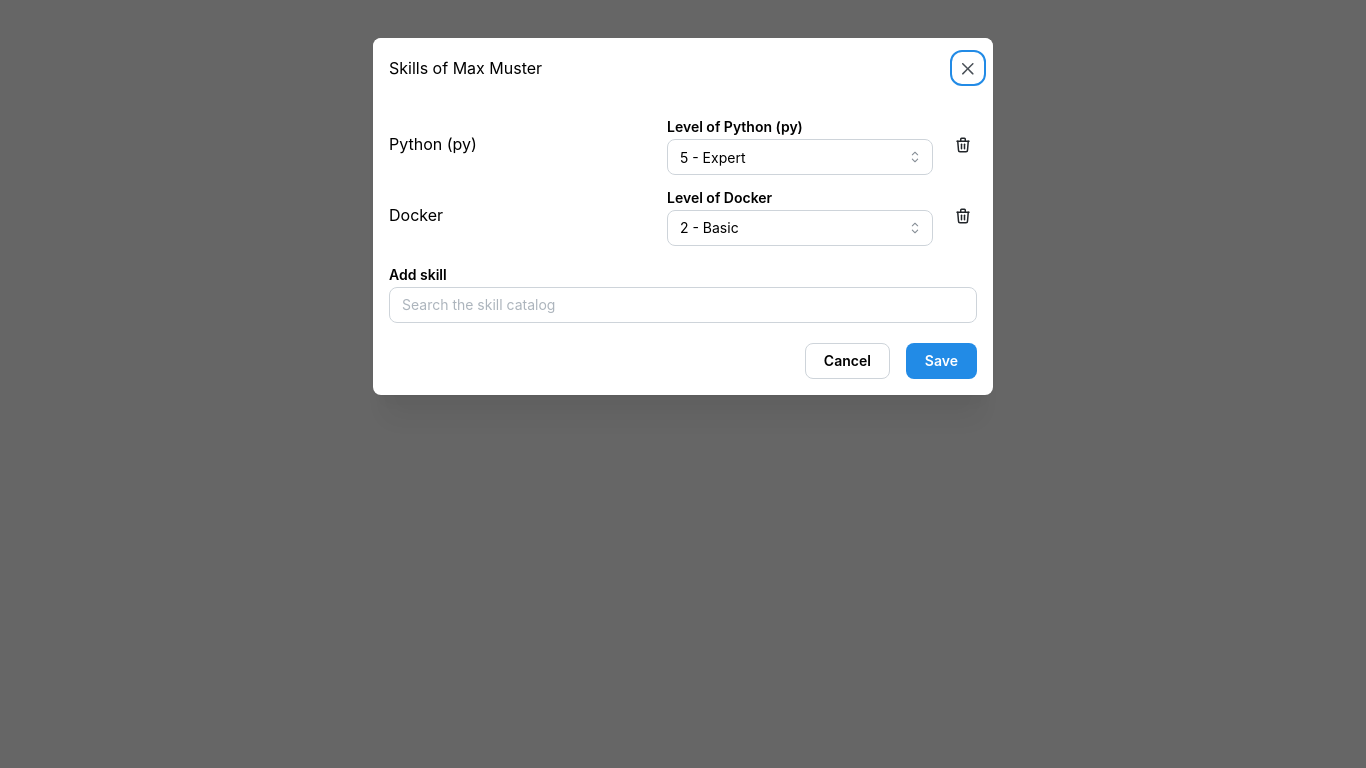
Scenario: SkillsDialog › shows the reason from the backend and stays open when a skill no longer exists
This screenshot has width=1366, height=768.
Click the button "Save" at (941, 361), box [906,343,977,379]
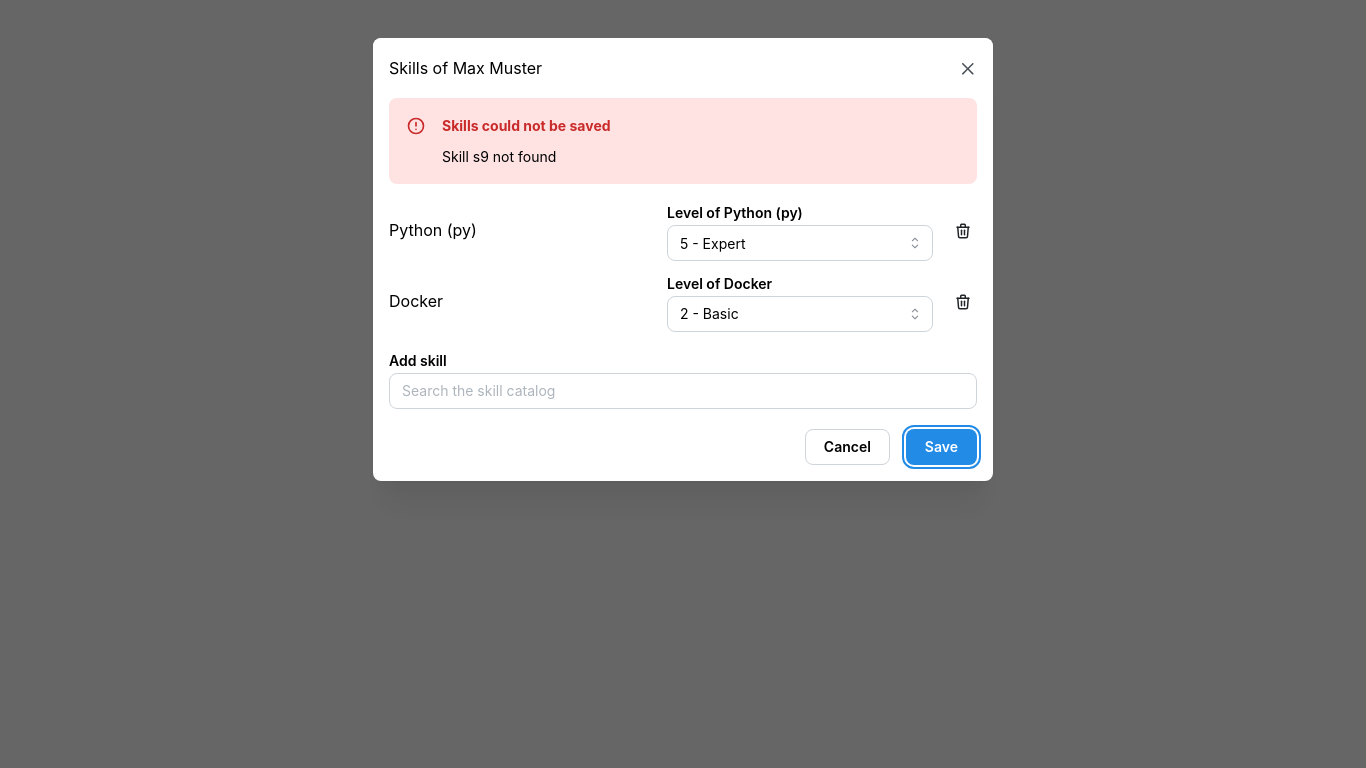
Now the text "Skills could not be saved" is shown, box [442,115,611,137]
Now the text "Skill s9 not found" is shown, box [442,148,556,165]
